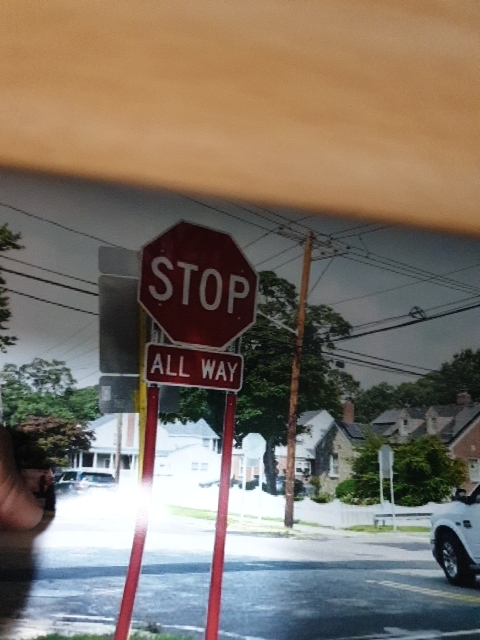stop: (137, 227, 277, 351)
